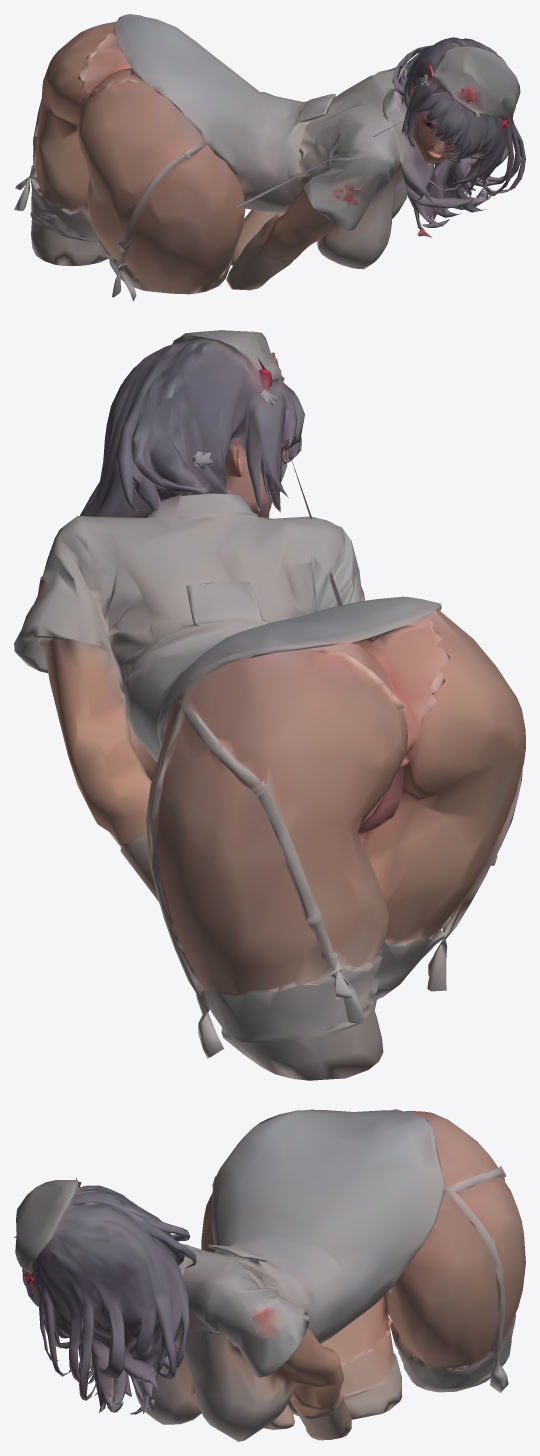
File: 01a1ad4a-600f-7b05-b9bd-abd11e50d416.glb
The picture shows the model from 3 angles, top to bottom: view 1: azimuth 30°, elevation 25°; view 2: azimuth 150°, elevation 25°; view 3: azimuth 270°, elevation 25°; orthographic projection. The views are drawn at different scales.
Visible parts, largest first — view 1: model; view 2: model; view 3: model.
Boxes of the visible parts, left/top/right/bottom form: model: left=14, top=14, right=525, bottom=301; model: left=14, top=330, right=525, bottom=1080; model: left=14, top=1109, right=525, bottom=1441.
Bounding box in the file's own units: 2.23 × 1.65 × 2.47.
